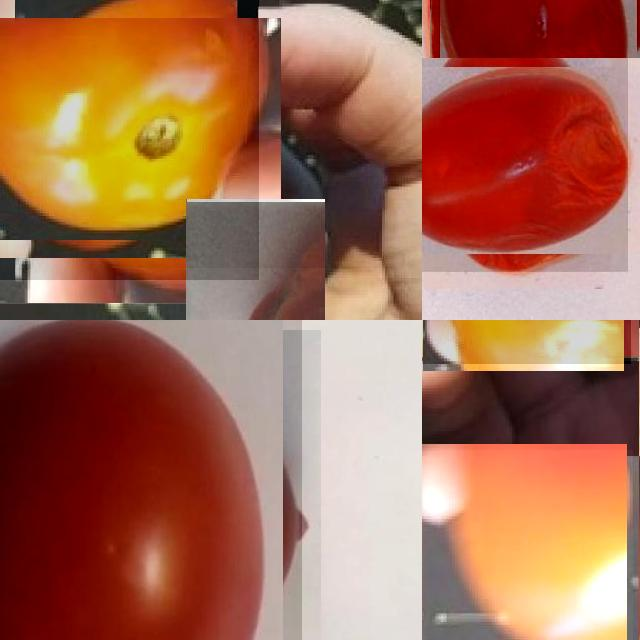0: (0, 320, 302, 640)
Fresh Tomato: (422, 450, 633, 640)
Rotten Tomato: (0, 0, 259, 280), (422, 58, 628, 271), (430, 0, 640, 58), (422, 320, 631, 364)
